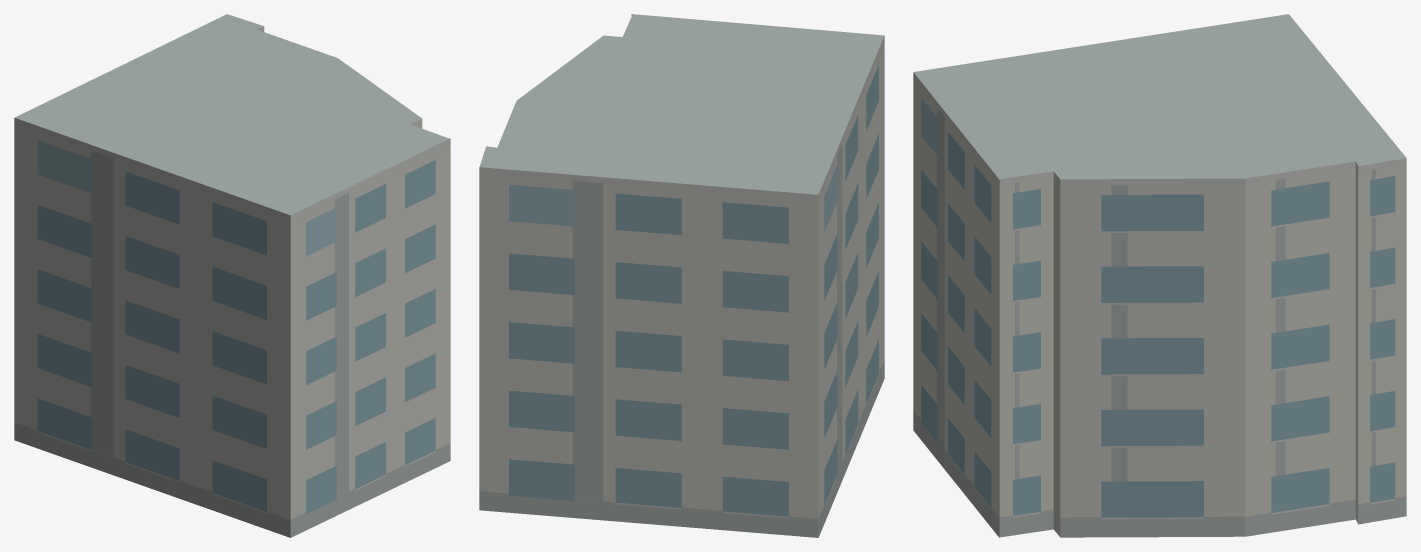
Rendered from survey-upis-32890622.glb.
The picture shows the model from 3 angles, left to right: view 1: azimuth 30°, elevation 25°; view 2: azimuth 150°, elevation 25°; view 3: azimuth 270°, elevation 25°; orthographic projection. The views are drawn at different scales.
Visible parts, largest first — view 1: survey-upis-32890622.tmp; view 2: survey-upis-32890622.tmp; view 3: survey-upis-32890622.tmp.
Part boxes in pixels (x1,y1,x2,y2): survey-upis-32890622.tmp: (14, 14, 450, 537); survey-upis-32890622.tmp: (479, 14, 884, 537); survey-upis-32890622.tmp: (913, 14, 1406, 537).
Size of the model in its own units: 14.2 by 14.3 by 17.86.
